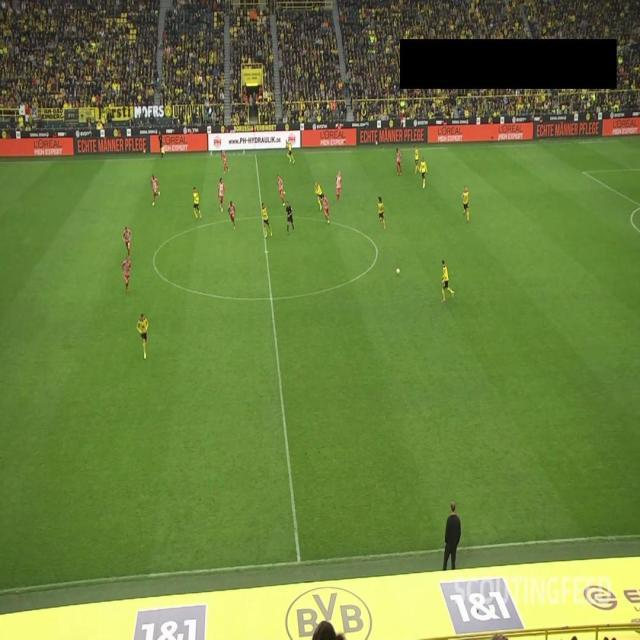ball: (396, 268, 400, 276)
player: (441, 259, 455, 304), (137, 313, 150, 359), (261, 202, 273, 238), (122, 255, 132, 294), (462, 185, 471, 224), (193, 186, 203, 221), (276, 174, 286, 208), (122, 226, 132, 258), (378, 196, 387, 230), (151, 173, 160, 206), (218, 177, 226, 212), (321, 194, 330, 224), (227, 200, 236, 230), (315, 182, 324, 211), (286, 139, 296, 165), (420, 157, 428, 189), (336, 170, 343, 203), (221, 150, 230, 175), (396, 147, 403, 176), (414, 145, 420, 175)
referee: (286, 200, 295, 235), (157, 130, 165, 158)
